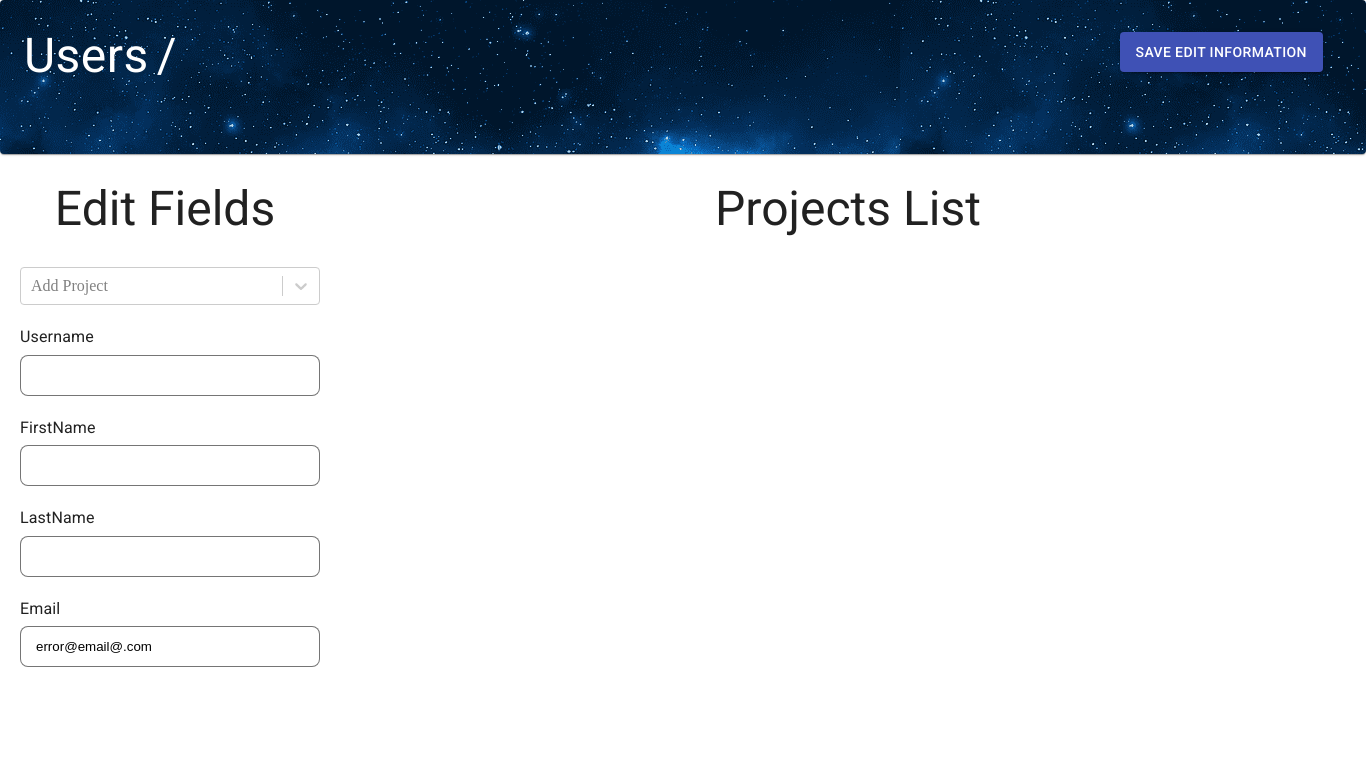
Test: User edit component › Error field on UserEditPage
Click the button "Save Edit Information" at [1221, 52], box x1=1120 y1=32 x2=1323 y2=72
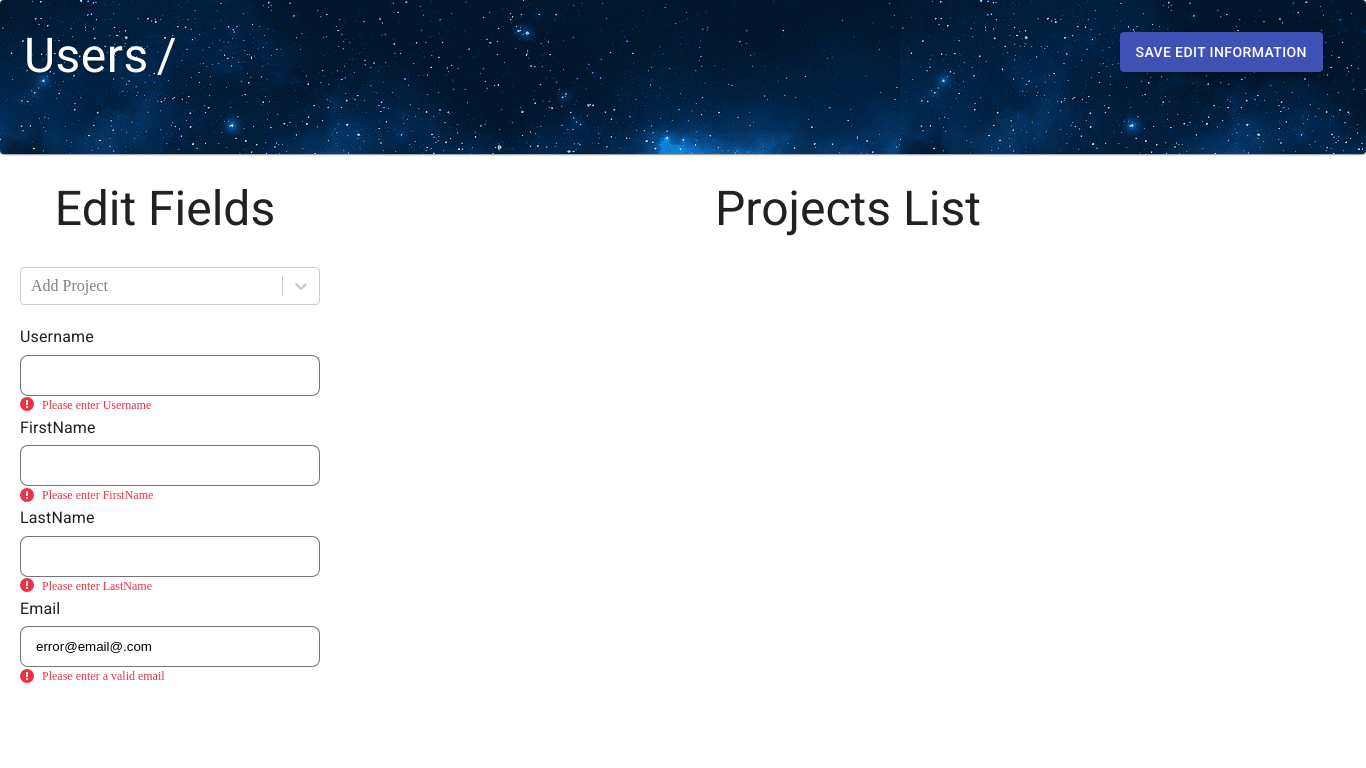
expect the text "Please enter Username" is shown: met, box x1=42 y1=398 x2=151 y2=412
expect the text "Please enter FirstName" is shown: met, box x1=42 y1=488 x2=153 y2=503
expect the text "Please enter LastName" is shown: met, box x1=42 y1=579 x2=152 y2=594
